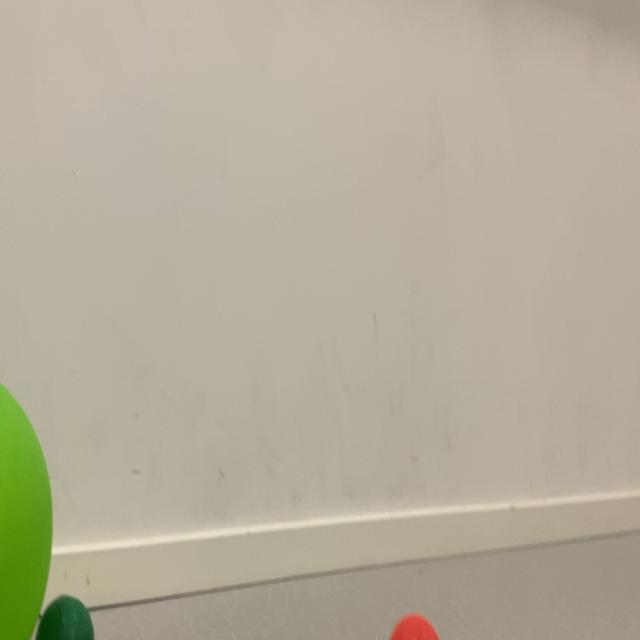red ball: (30, 567, 113, 640)
